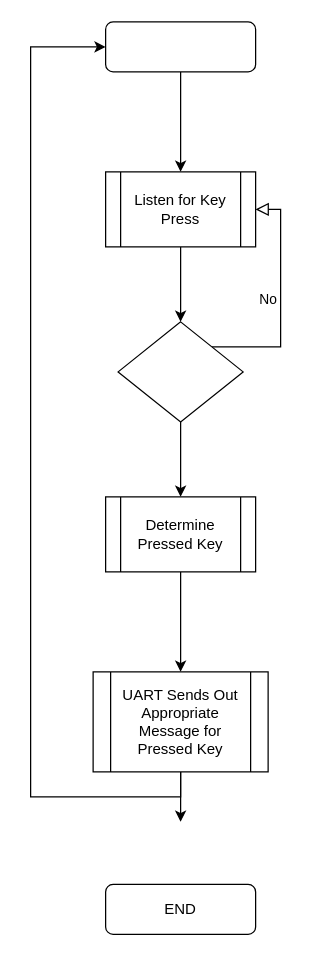
This 315x956 diagram has some shape labels left out. Here are the shapes that lost their labels. From the top down, the centre of each, then its label:
(180,46): START
(180,371): Key Press Event
